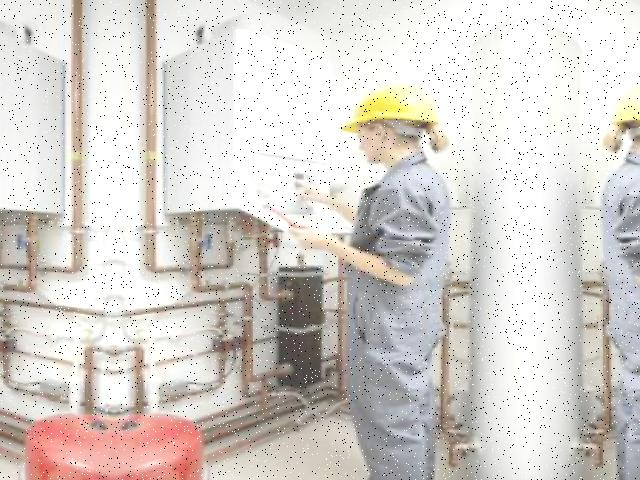Helmet: (336, 81, 448, 138)
